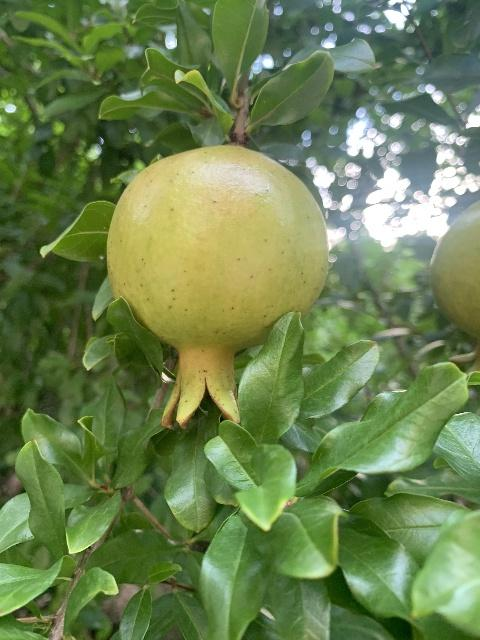mid-growth: (106, 142, 329, 433)
